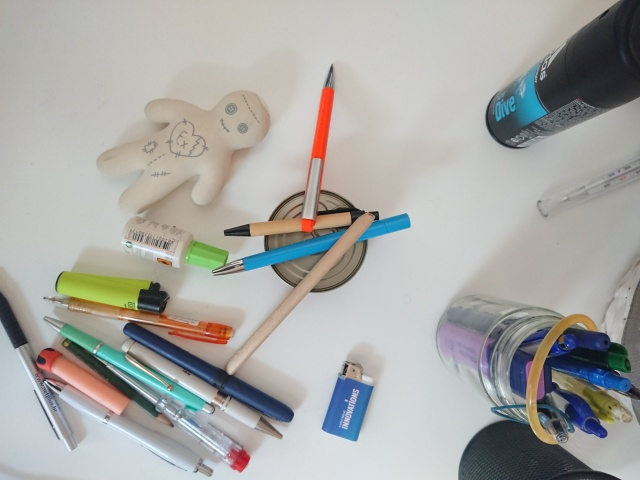Gavrilovic Pork Liver Pate 100g: (262, 187, 370, 295)
